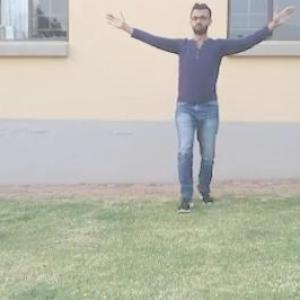takeoff: (104, 0, 289, 206)
